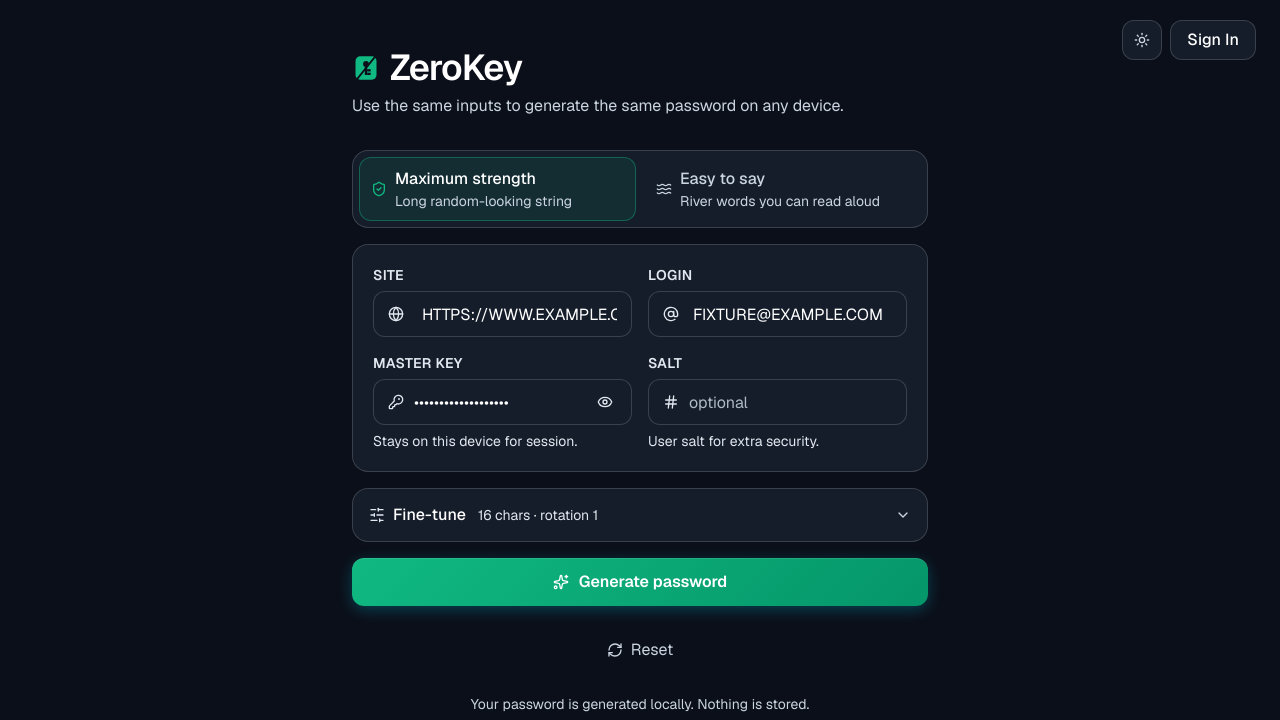
Test: homepage password compatibility › passes the PBKDF2 counter, salt, length, and character settings to the generator
Earlier steps of the test are not shown.
Type "  salt with spaces  " into the field with placeholder "optional" at coordinates (790, 402), box [689,380,892,424]
Click the button "Fine-tune 16 chars · rotation 1" at coordinates (429, 514), box [353,489,927,541]
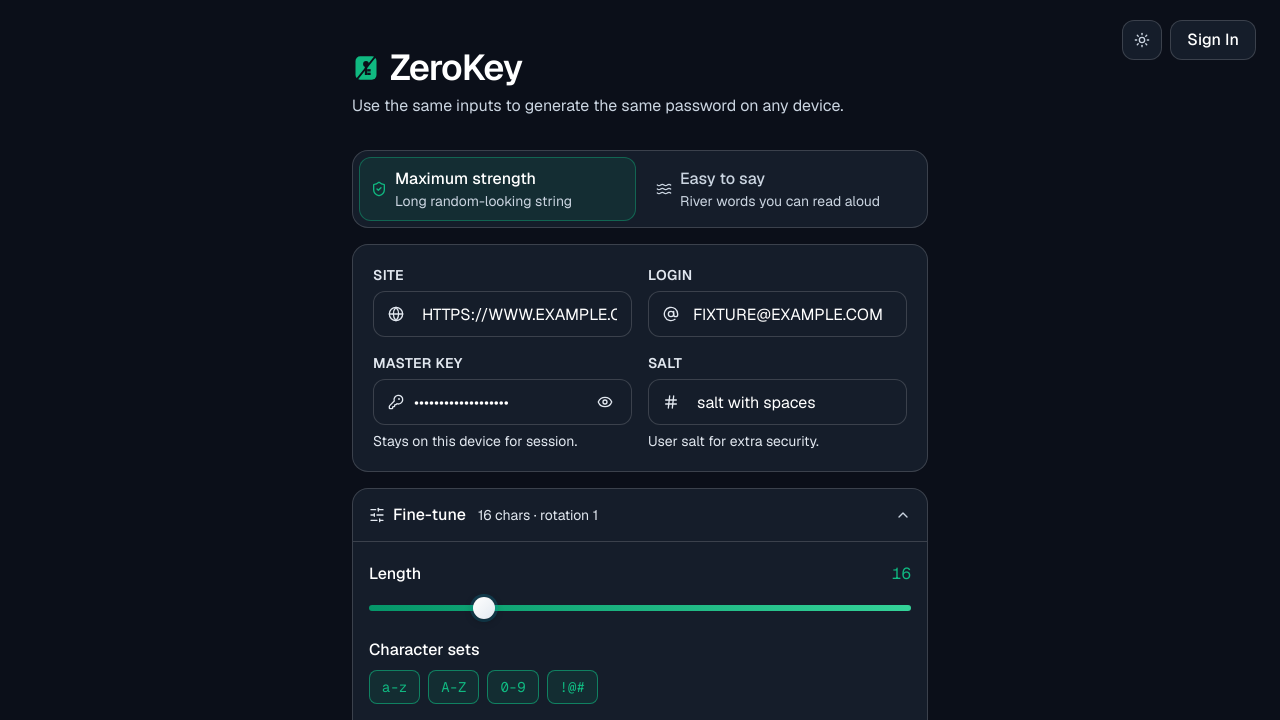
Set the slider labelled "Length" to "24" at coordinates (587, 608), box [369,605,911,611]
(page scrolled)
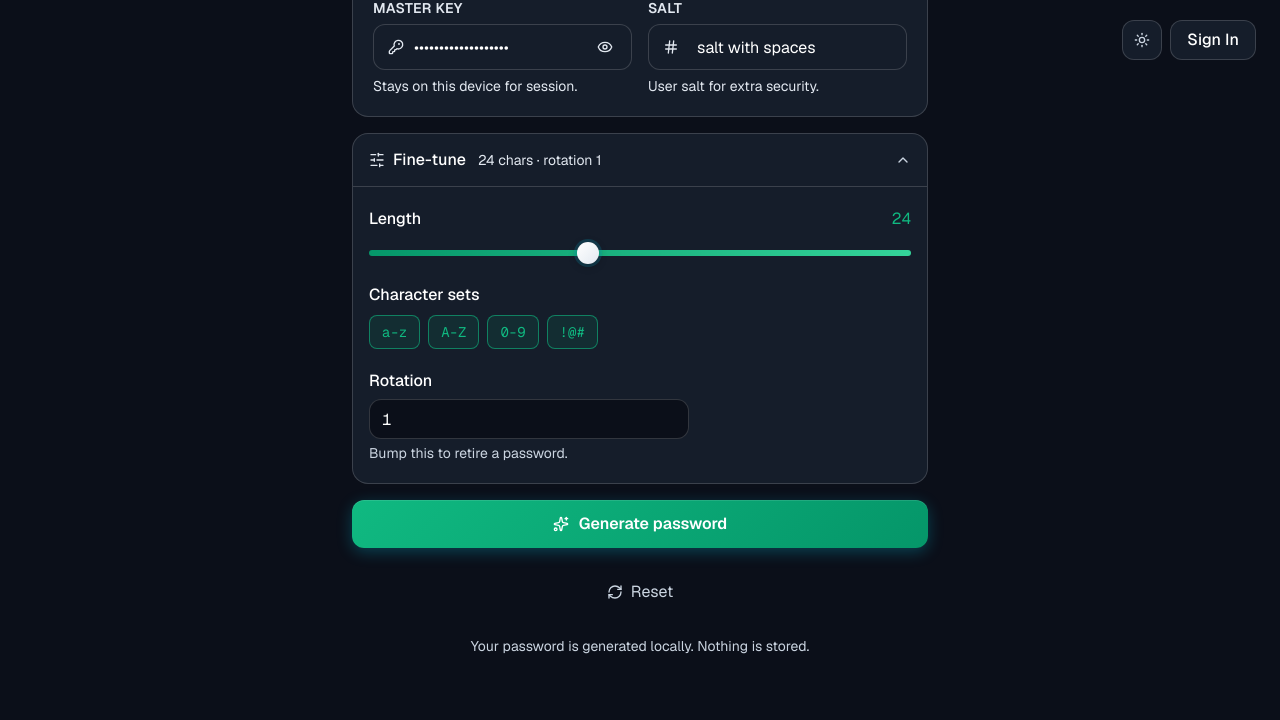
Replace the text in the field labelled "Rotation" with "10" at coordinates (529, 419), box [369,399,689,439]
Click the button "A-Z" at coordinates (454, 332), box [428,315,479,349]
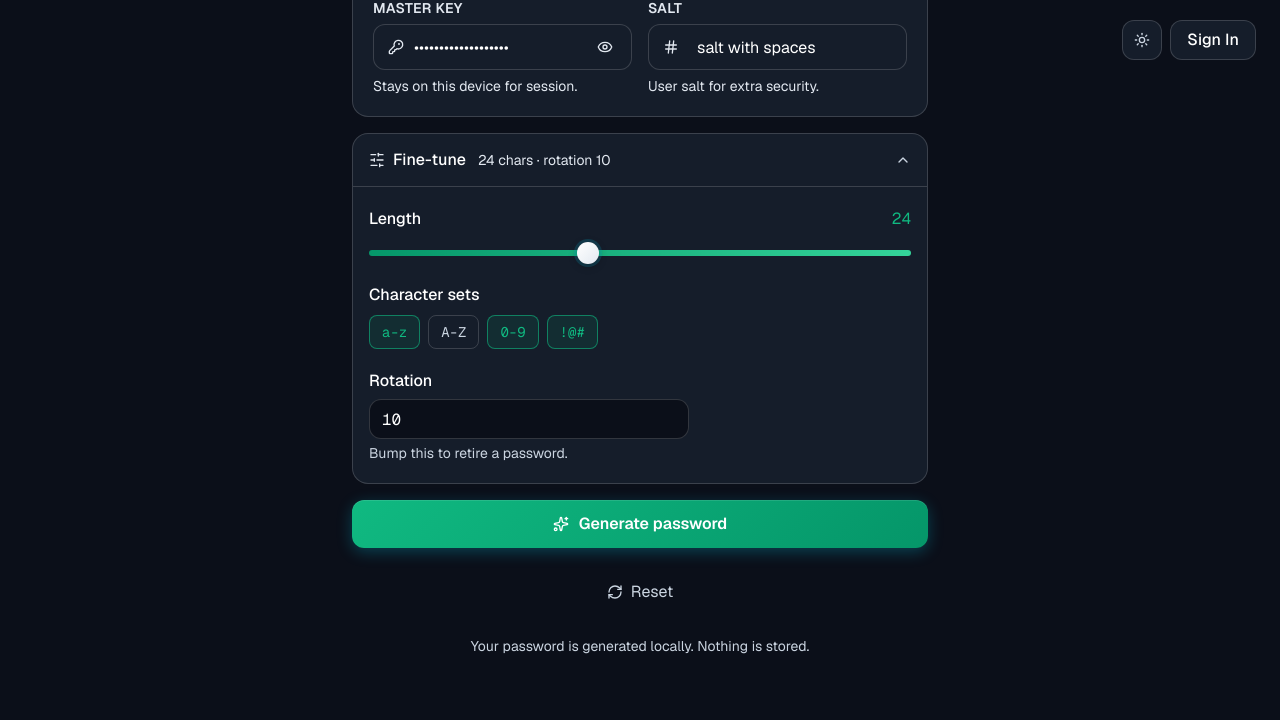
Click the button "!@#" at coordinates (572, 332), box [547,315,598,349]
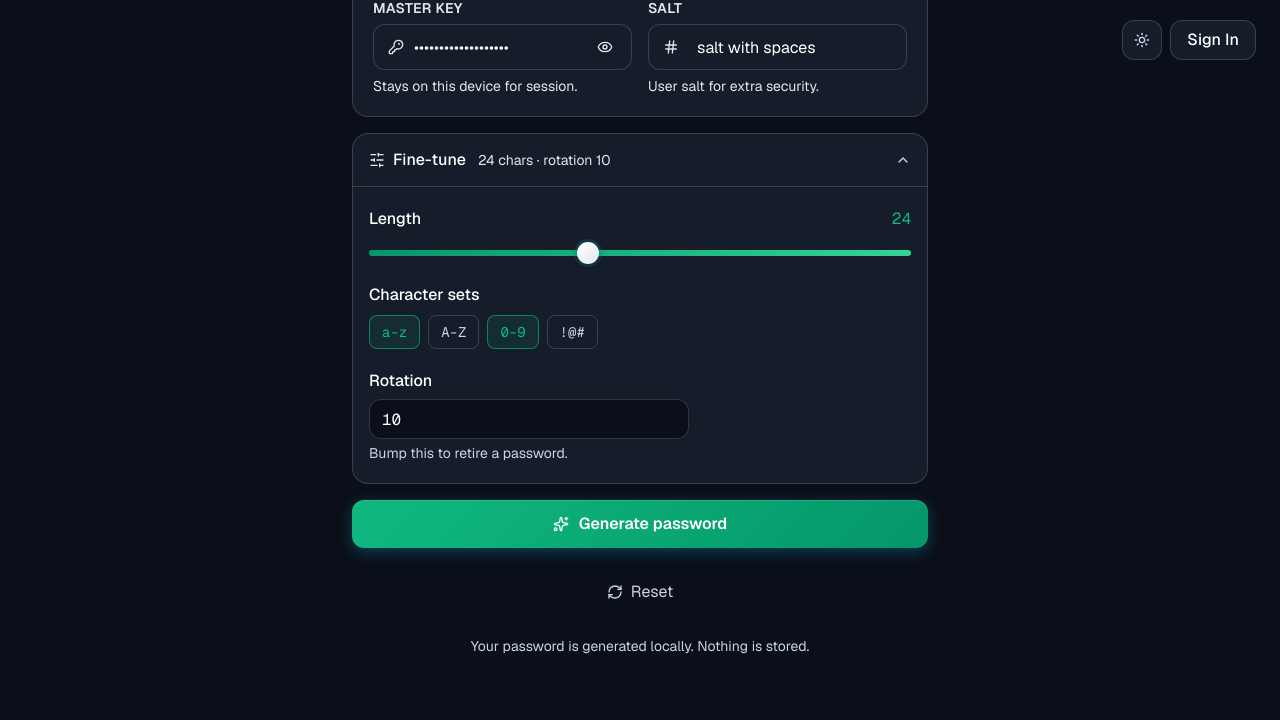
Click the button "Generate password" at coordinates (640, 524), box [352,500,928,548]
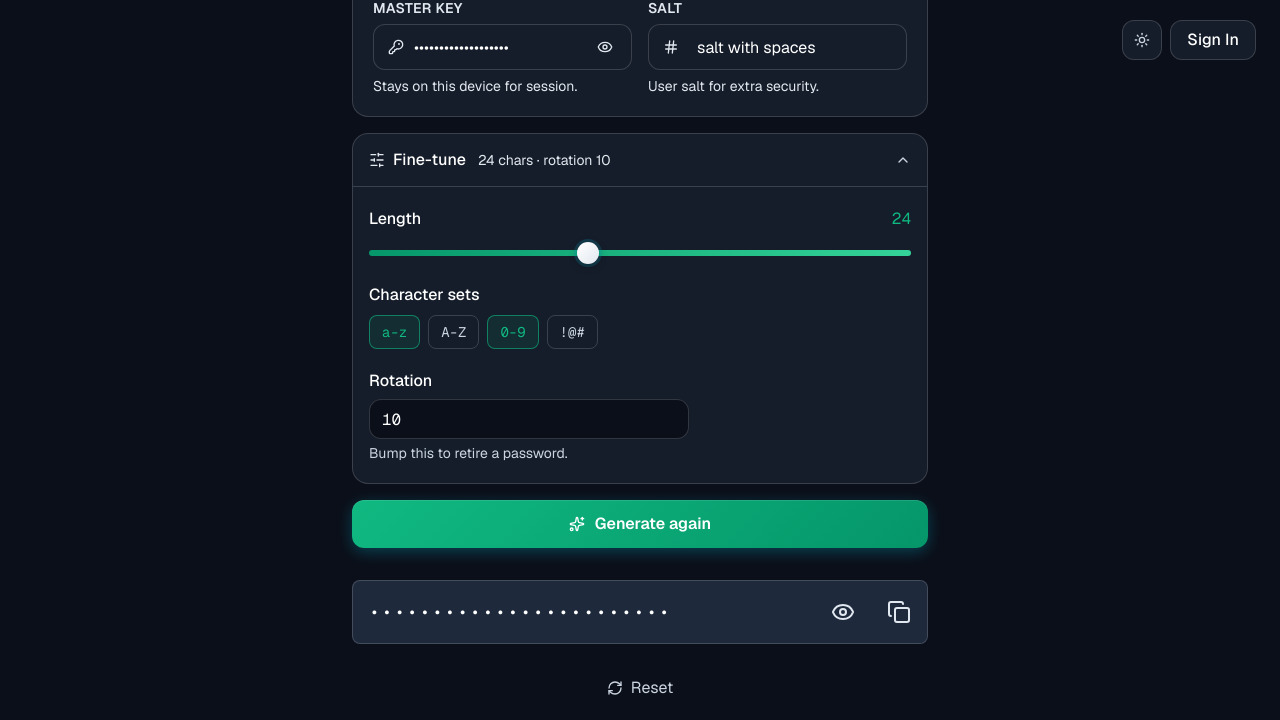
Click the button named "Show password" at coordinates (843, 612), box [815,581,871,643]
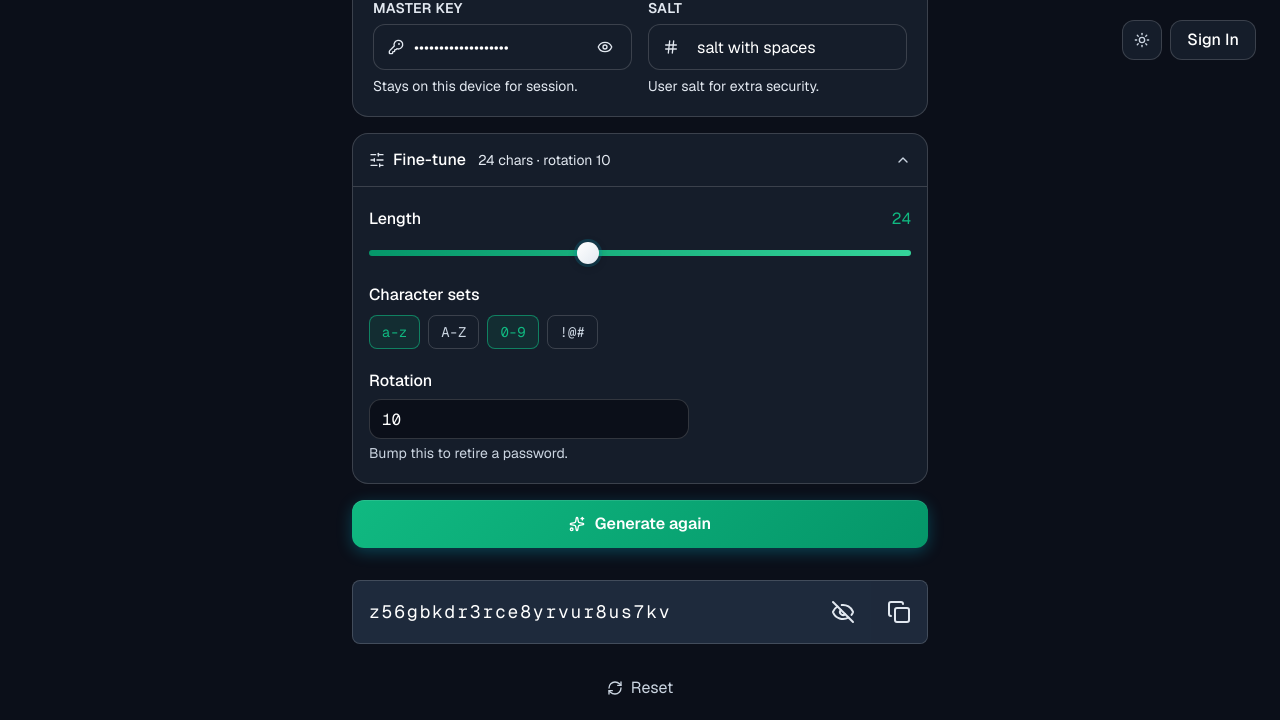
Expected: the text named "Password visible" reads "z56gbkdr3rce8yrvur8us7kv", [369,600,671,623]
